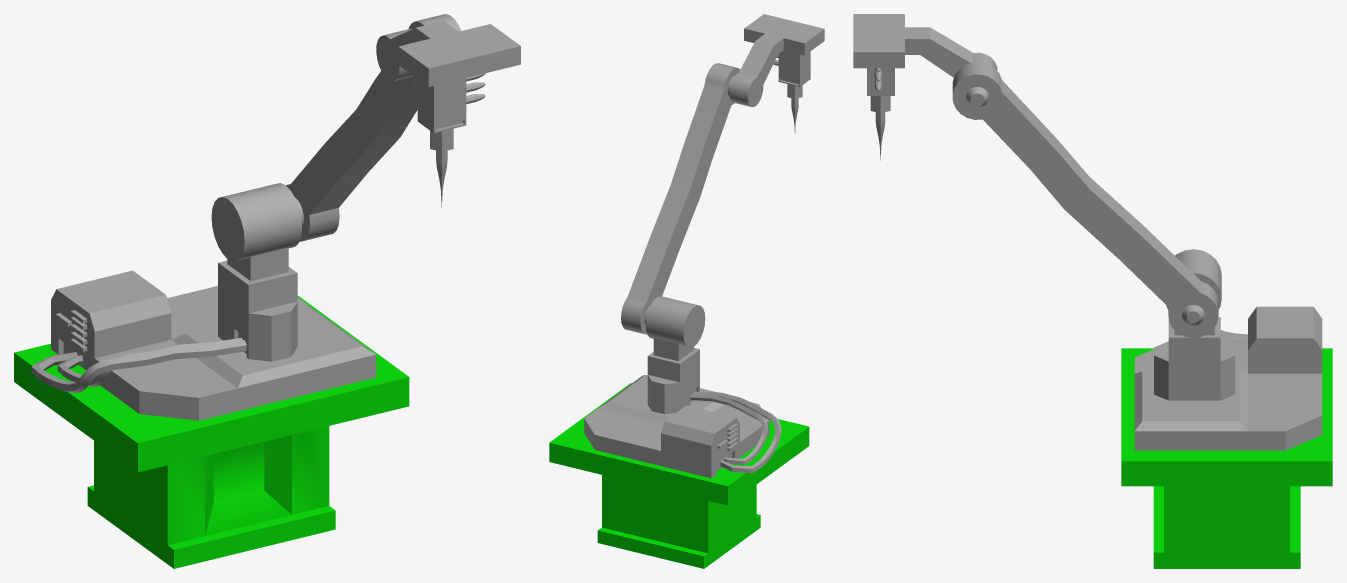
The model's file is Lab_Robot_mechanich.fbx.
The picture shows the model from 3 angles, left to right: view 1: azimuth 30°, elevation 25°; view 2: azimuth 150°, elevation 25°; view 3: azimuth 270°, elevation 25°; orthographic projection. The views are drawn at different scales.
Parts seen in each view (by area): view 1: Desk_with_robot, Robot_base_Static, pasted__pasted__pCylinder11; view 2: Robot_base_Static, Desk_with_robot, pasted__pasted__pCylinder11; view 3: Robot_base_Static, Desk_with_robot, pasted__pasted__pCylinder11.
Boxes of the visible parts, left/top/right/bottom form: Desk_with_robot: left=14, top=295, right=409, bottom=568; Robot_base_Static: left=211, top=14, right=520, bottom=361; pasted__pasted__pCylinder11: left=31, top=270, right=376, bottom=420; Robot_base_Static: left=621, top=14, right=824, bottom=414; Desk_with_robot: left=549, top=383, right=809, bottom=568; pasted__pasted__pCylinder11: left=584, top=375, right=781, bottom=478; Robot_base_Static: left=853, top=14, right=1235, bottom=400; Desk_with_robot: left=1121, top=348, right=1332, bottom=568; pasted__pasted__pCylinder11: left=1134, top=306, right=1322, bottom=450.
Size of the model in its own units: 220 by 451 by 376.
